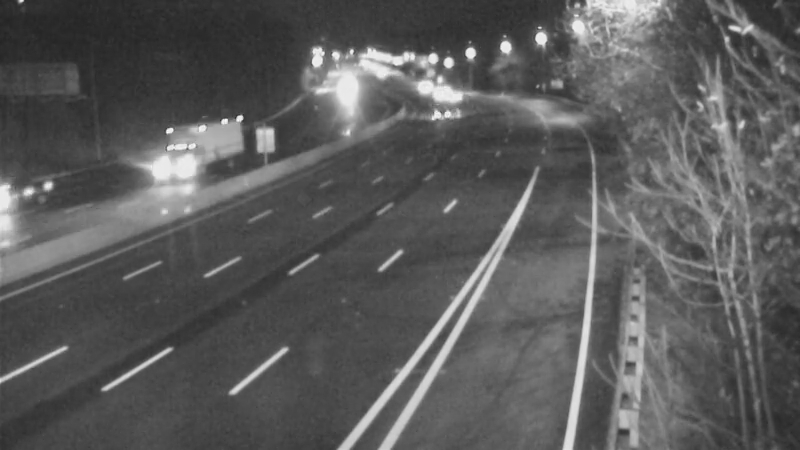vehicle: (144, 120, 224, 200), (1, 152, 74, 232), (401, 63, 451, 113), (415, 68, 465, 118), (430, 74, 480, 124), (418, 86, 468, 136)
